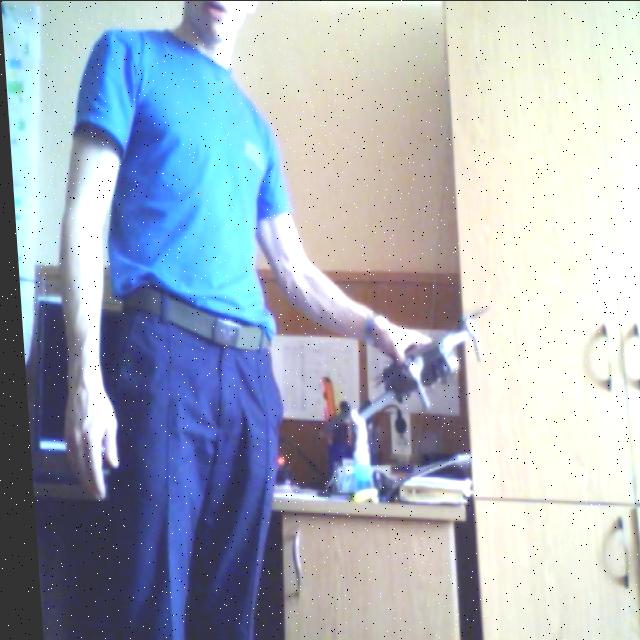drone: (334, 312, 505, 436)
